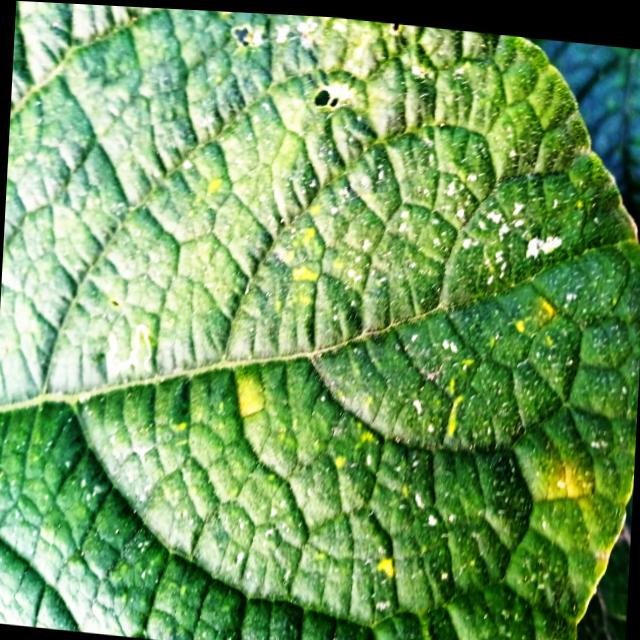Downy-Mildew: (0, 9, 640, 640)
